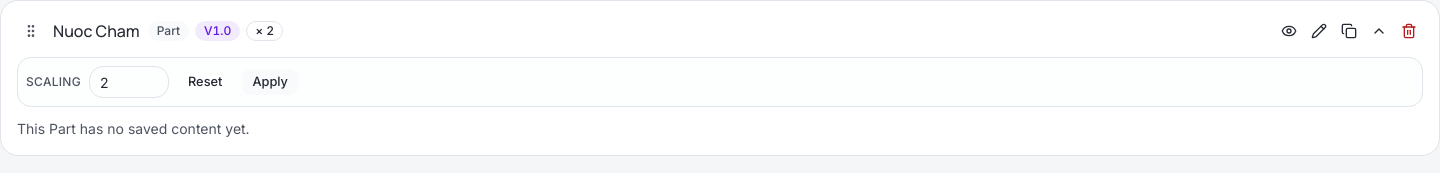
Test case: PartLinkFields Scaling › Apply updates the parent draft's multiplier and the header chip, without persisting anything
The image size is (1440, 173).
Expected: the icon "× 2" is shown, [246,21,283,41]
Replace the text in the field named "Scaling multiplier" with "3": [129, 82] box [89,66,169,98]
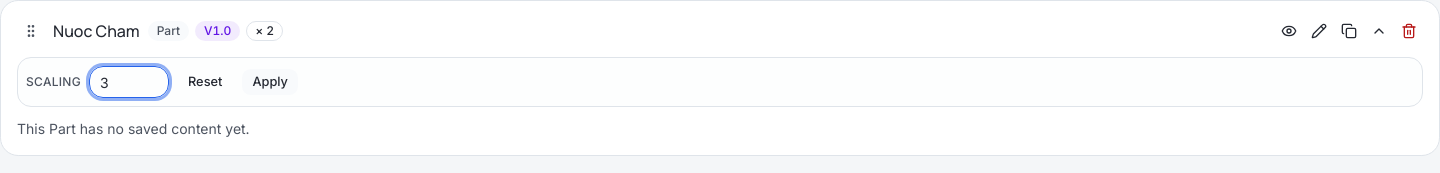
Expected: the icon "× 2" is shown, [246,21,283,41]
Click the button "Apply": [270, 82] box [241,68,299,96]
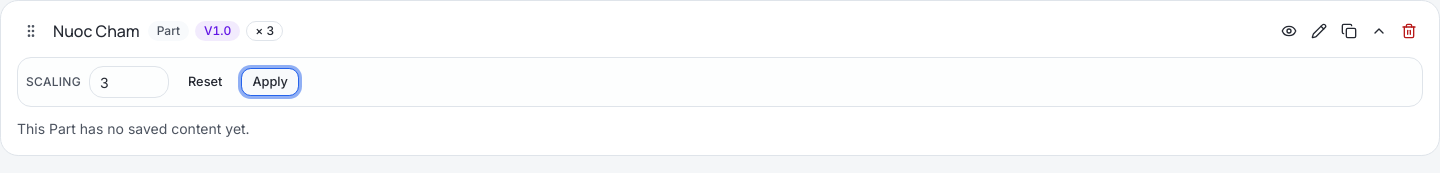
Result: the icon "× 3" is shown at [246,21,283,41]
Result: the icon "× 2" is gone
